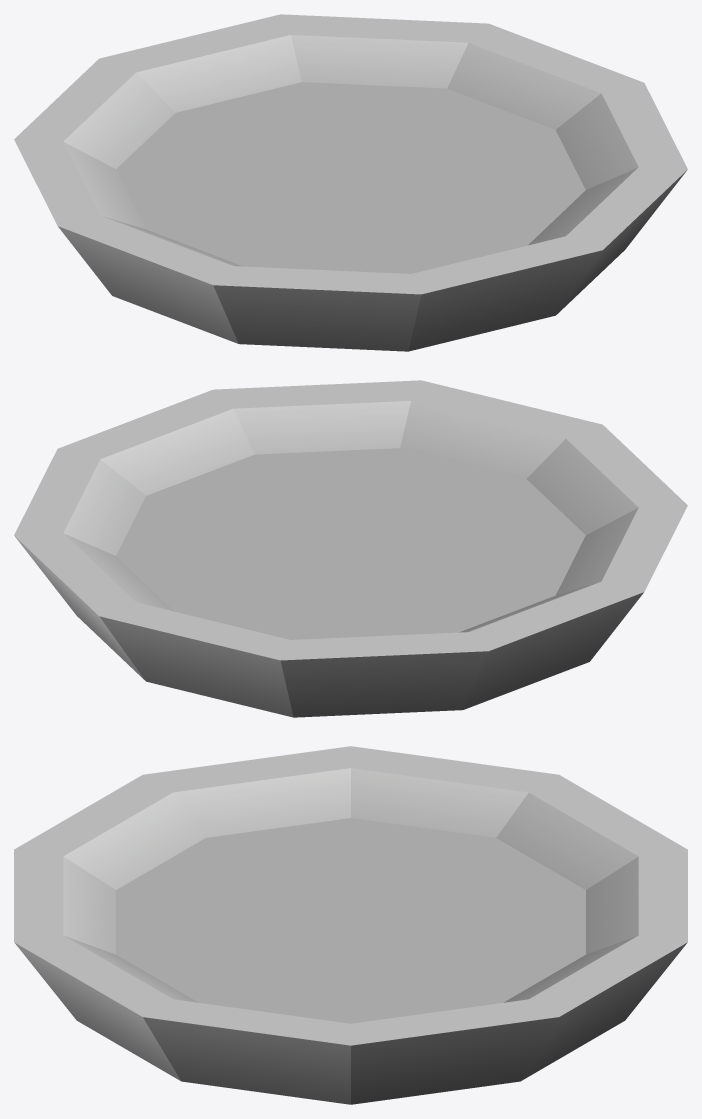
The model's file is piatto.fbx.
The picture shows the model from 3 angles, top to bottom: view 1: azimuth 30°, elevation 25°; view 2: azimuth 150°, elevation 25°; view 3: azimuth 270°, elevation 25°; orthographic projection. The views are drawn at different scales.
Parts seen in each view (by area): view 1: piatto; view 2: piatto; view 3: piatto.
Boxes of the visible parts, x1=… form: piatto: x1=14, y1=14, x2=687, y2=351; piatto: x1=14, y1=380, x2=687, y2=717; piatto: x1=14, y1=746, x2=687, y2=1104.
Size of the model in its own units: 129 by 17.53 by 123.
